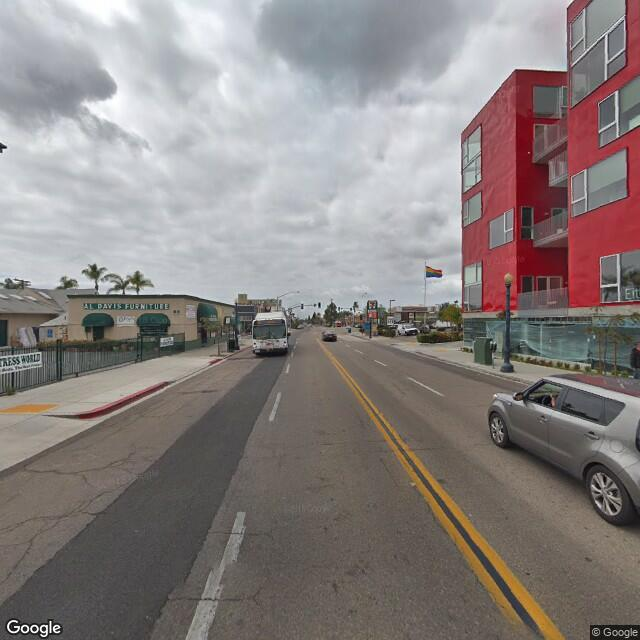road line: (387, 448, 555, 609), (195, 470, 254, 638)
window: (599, 27, 636, 78), (596, 249, 627, 304), (565, 4, 591, 66), (597, 97, 622, 144), (566, 173, 591, 217), (483, 215, 519, 244), (456, 131, 482, 157)
